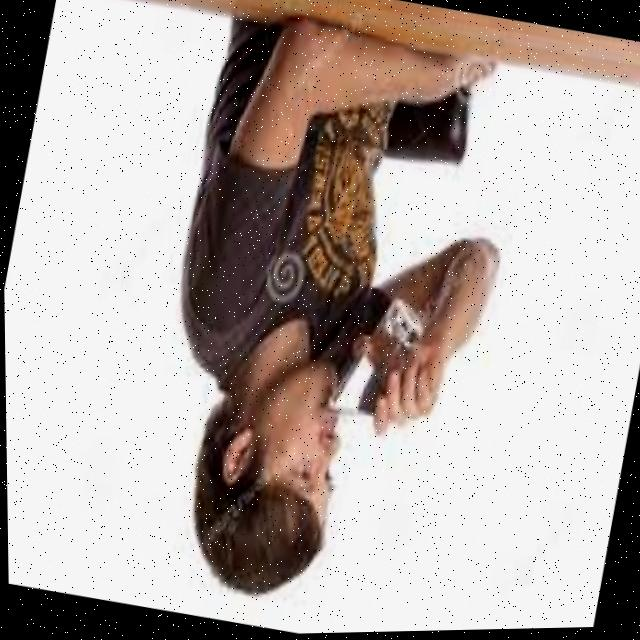eating-person: (116, 0, 552, 638)
